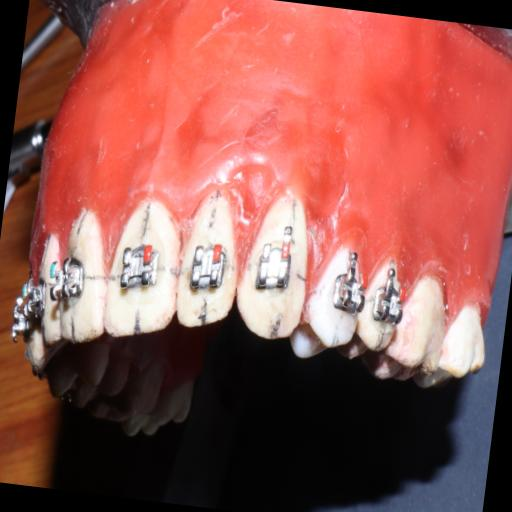incorrect_brace: (254, 238, 296, 299)
